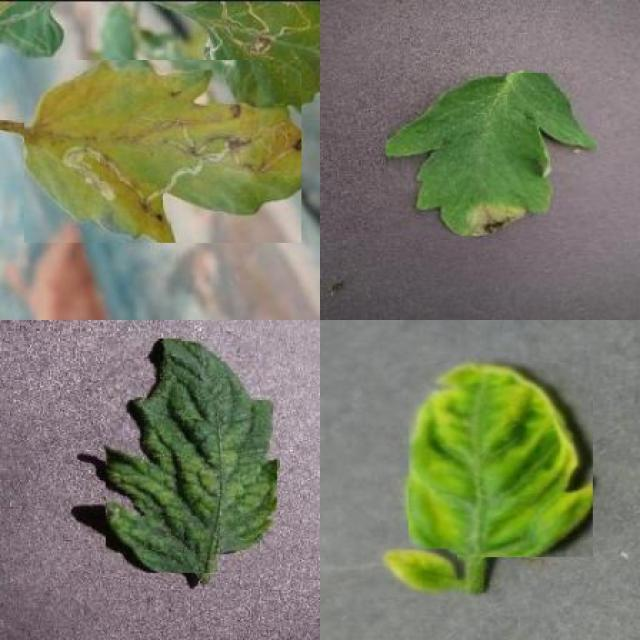Late Blight: (386, 74, 597, 236)
Leaf Miner: (25, 60, 302, 243)
Mosaic Virus: (105, 339, 278, 574)
Yellow Leaf Curl Virus: (408, 362, 593, 558), (382, 549, 458, 597)
